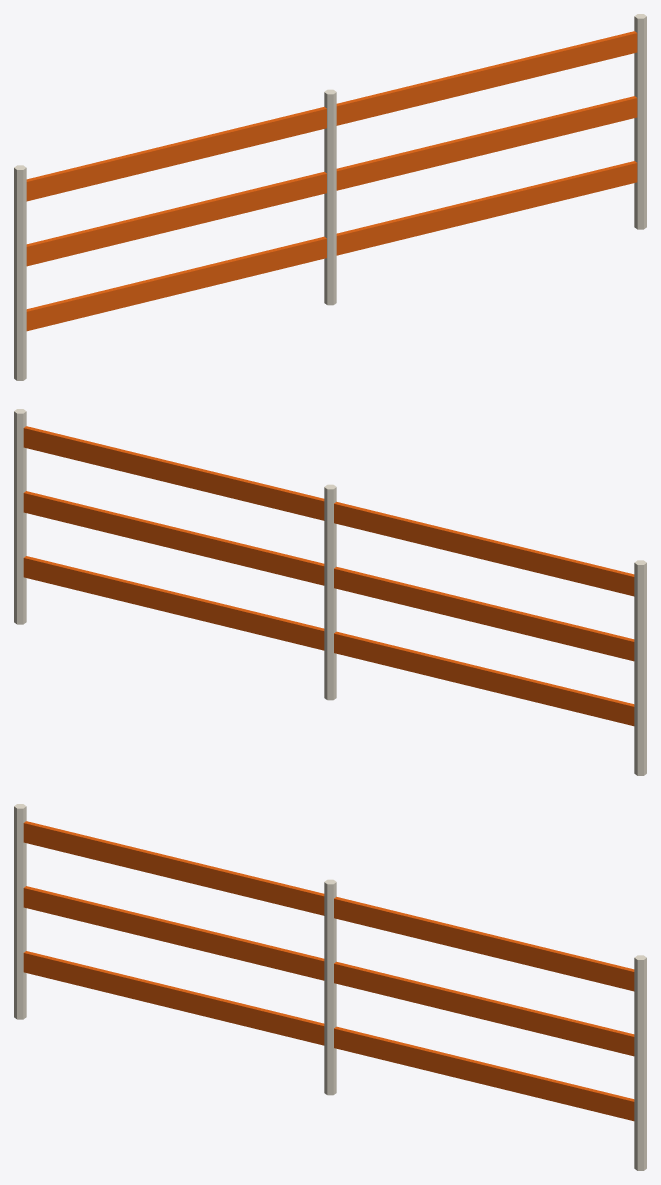
File: safety_net.glb
3 views of the same model, one above another, from view 1: azimuth 30°, elevation 25°; view 2: azimuth 150°, elevation 25°; view 3: azimuth 330°, elevation 25° (orthographic).
Visible parts, largest first — view 1: safety_net; view 2: safety_net; view 3: safety_net.
Part boxes in pixels (x1=…): safety_net: x1=14, y1=14, x2=646, y2=380; safety_net: x1=14, y1=409, x2=646, y2=775; safety_net: x1=14, y1=804, x2=646, y2=1170.
Bounding box in the file's own units: 4.06 × 1.3 × 0.0699.
